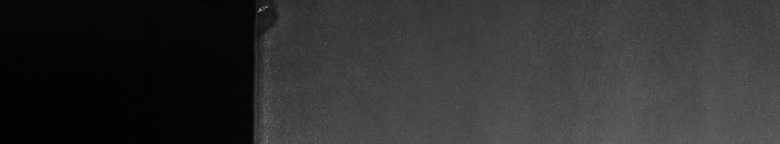hb: (264, 4, 284, 48)
